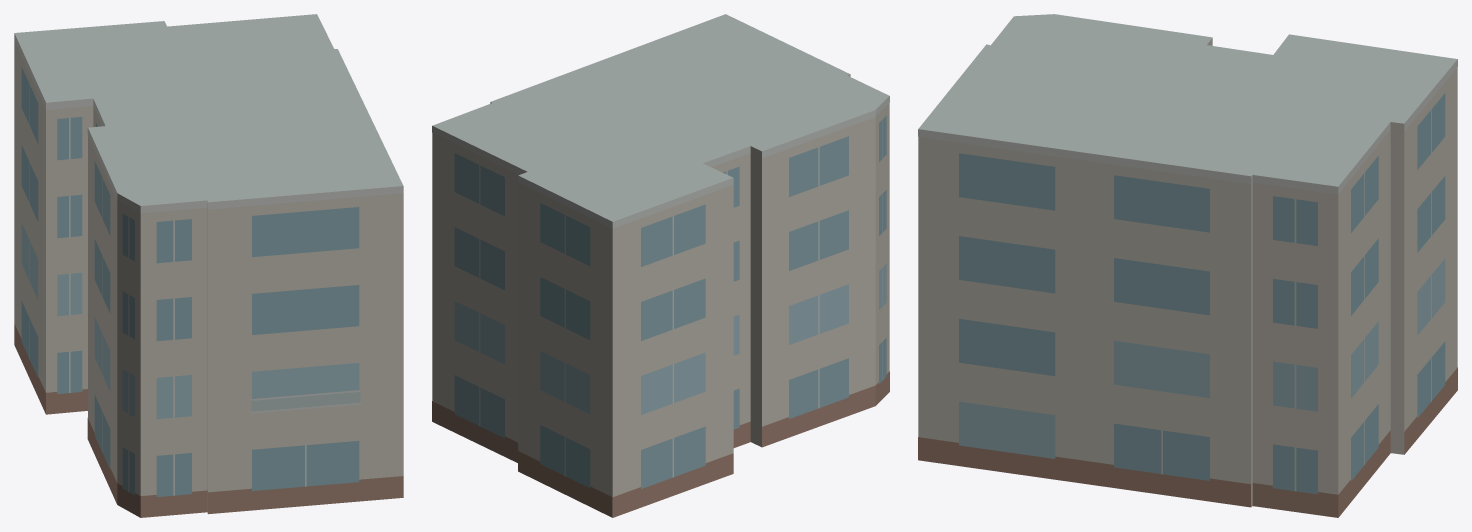
The model's file is survey-upis-32656620.glb.
The picture shows the model from 3 angles, left to right: view 1: azimuth 30°, elevation 25°; view 2: azimuth 150°, elevation 25°; view 3: azimuth 270°, elevation 25°; orthographic projection. The views are drawn at different scales.
Visible parts, largest first — view 1: survey-upis-32656620.tmp; view 2: survey-upis-32656620.tmp; view 3: survey-upis-32656620.tmp.
Boxes of the visible parts, x1,y1,x2,y2 form: survey-upis-32656620.tmp: [14, 14, 403, 517]; survey-upis-32656620.tmp: [432, 14, 889, 517]; survey-upis-32656620.tmp: [918, 14, 1457, 517].
Size of the model in its own units: 11.7 by 10.45 by 15.45.
